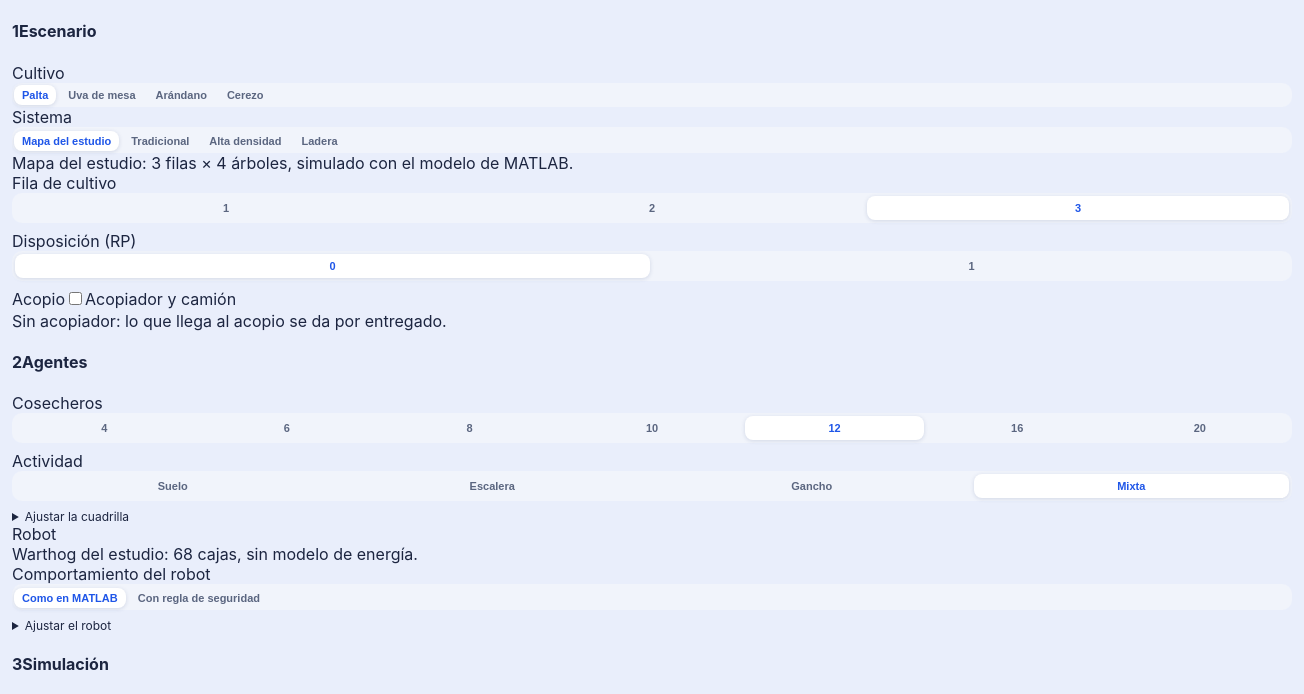
it: SimSteps (panel izquierdo del Simulador) › el comportamiento del robot reemplaza a «Modelo»: como en MATLAB o con regla de seguridad
Step 1. Click the button "Con regla de seguridad" → x=199, y=598, box [130, 588, 268, 608]
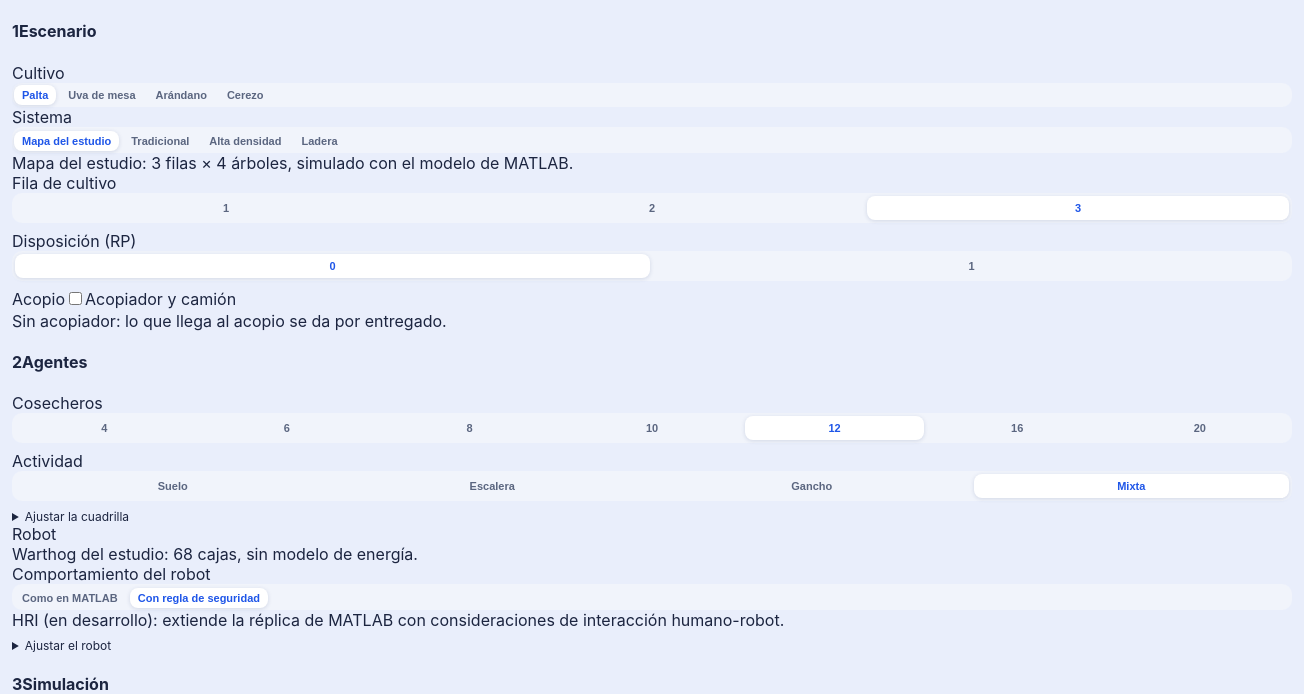
Step 2. Click the heading with test id "robot-params" → x=68, y=646, box [25, 638, 111, 653]
(page scrolled)
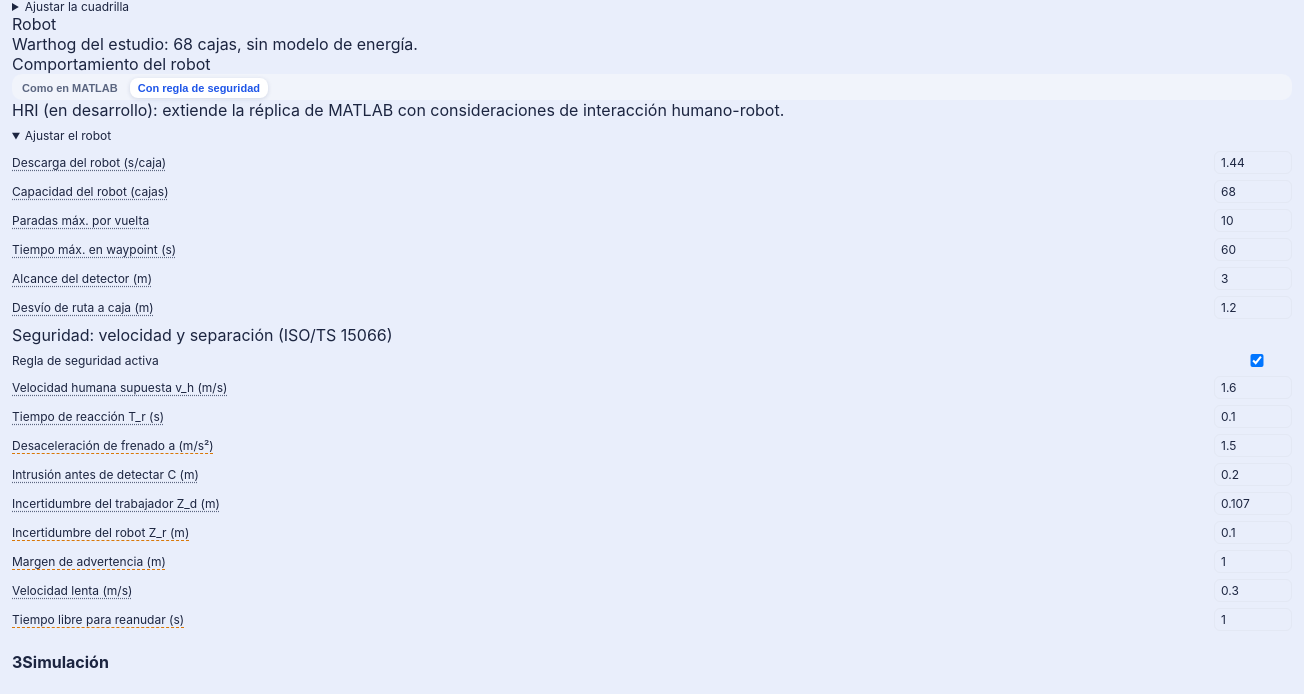
Expected: the text "Regla de seguridad activa" is shown, [12, 353, 159, 368]
